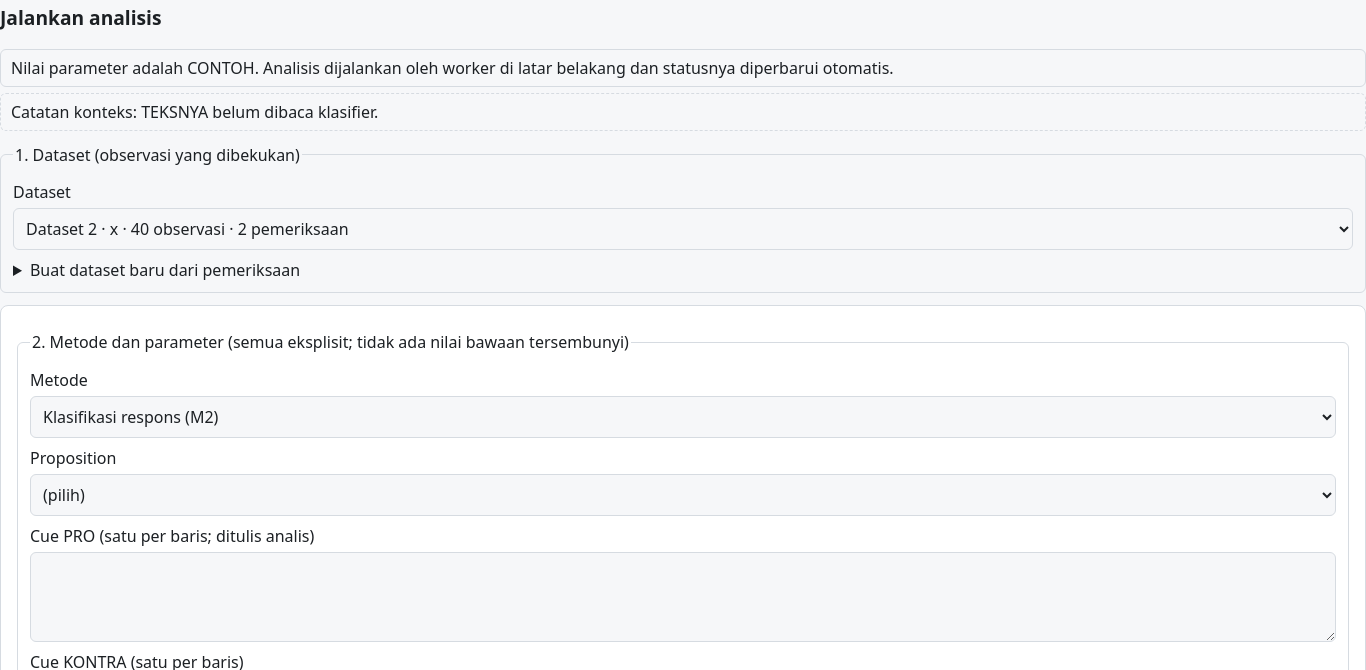
RunAnalysisPanel › M4: contoh mengisi relasi dan angka; stance view membutuhkan proposition dan run M2
Select "Jaringan interaksi (M4)" in the dropdown labelled "Metode" at (683, 417), box [30, 396, 1336, 438]
(page scrolled)
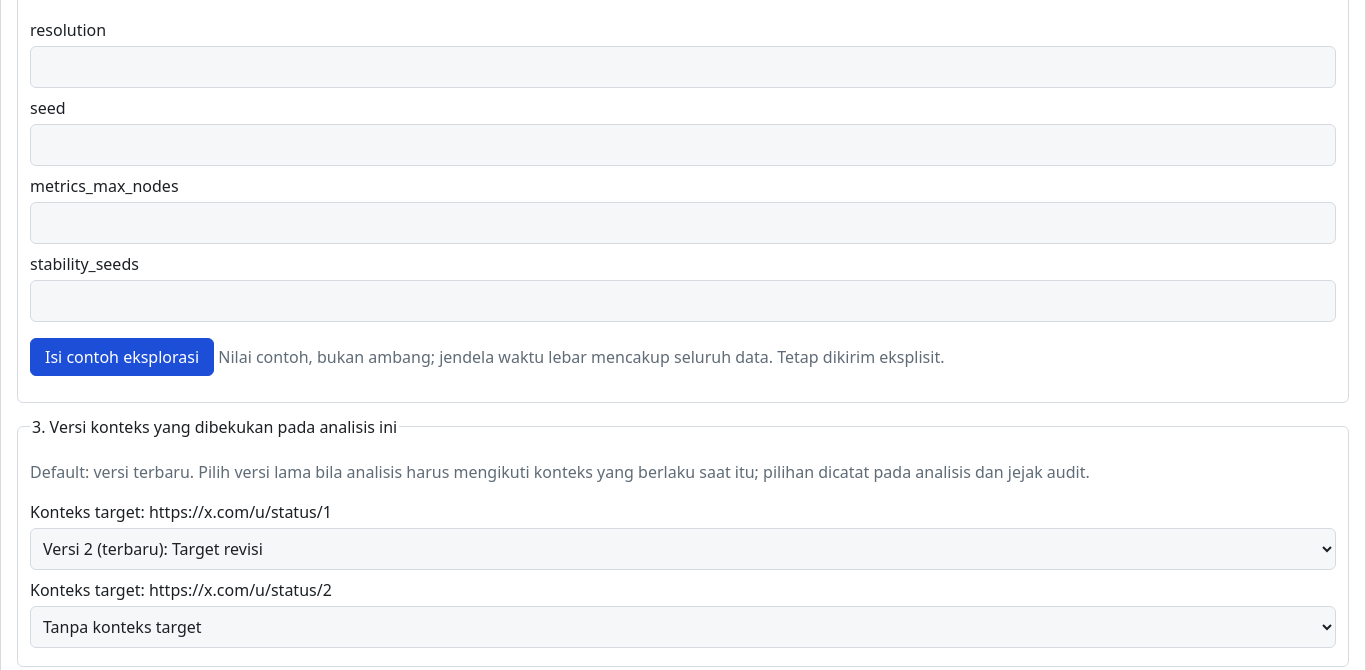
Click the button "Isi contoh eksplorasi" at (122, 356), box [30, 338, 214, 376]
(page scrolled)
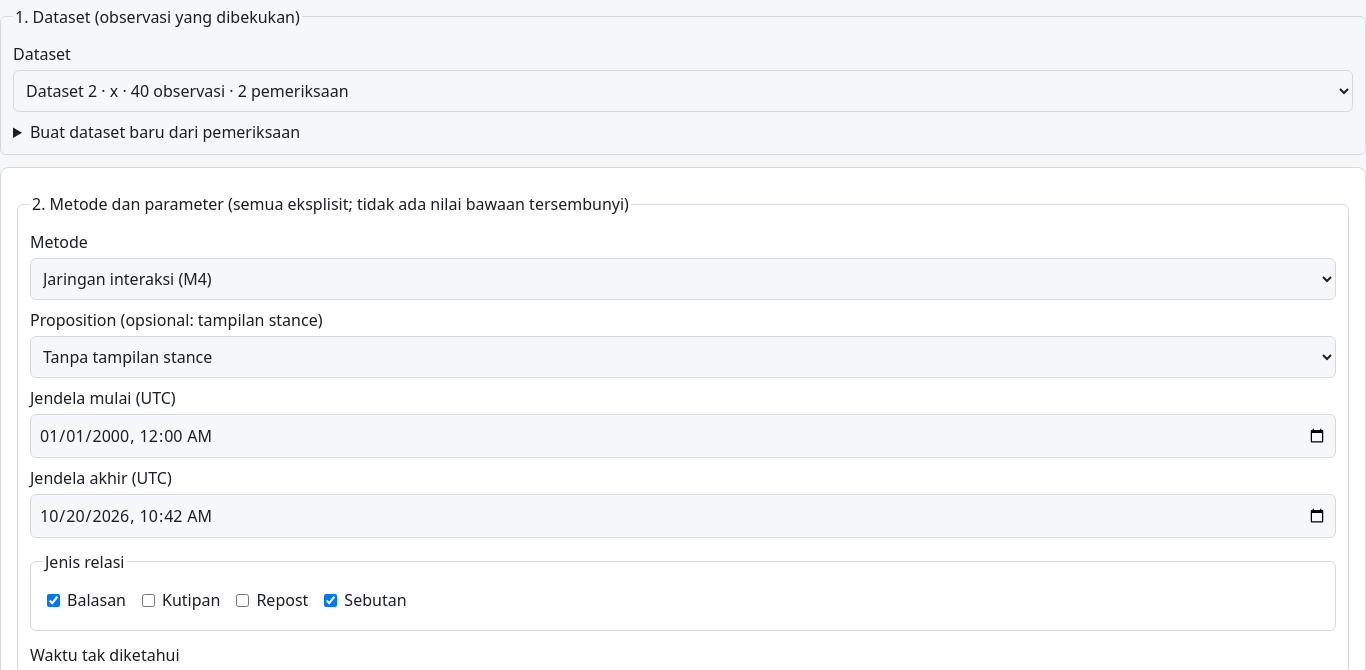
Result: the checkbox labelled "Kutipan" is not checked at [142, 592, 155, 608]
Result: the checkbox labelled "Balasan" is checked at [47, 592, 60, 608]
Select "P1: Perlu diaudit." in the dropdown labelled "Proposition (opsional: tampilan stance)" at (683, 357), box [30, 336, 1336, 378]
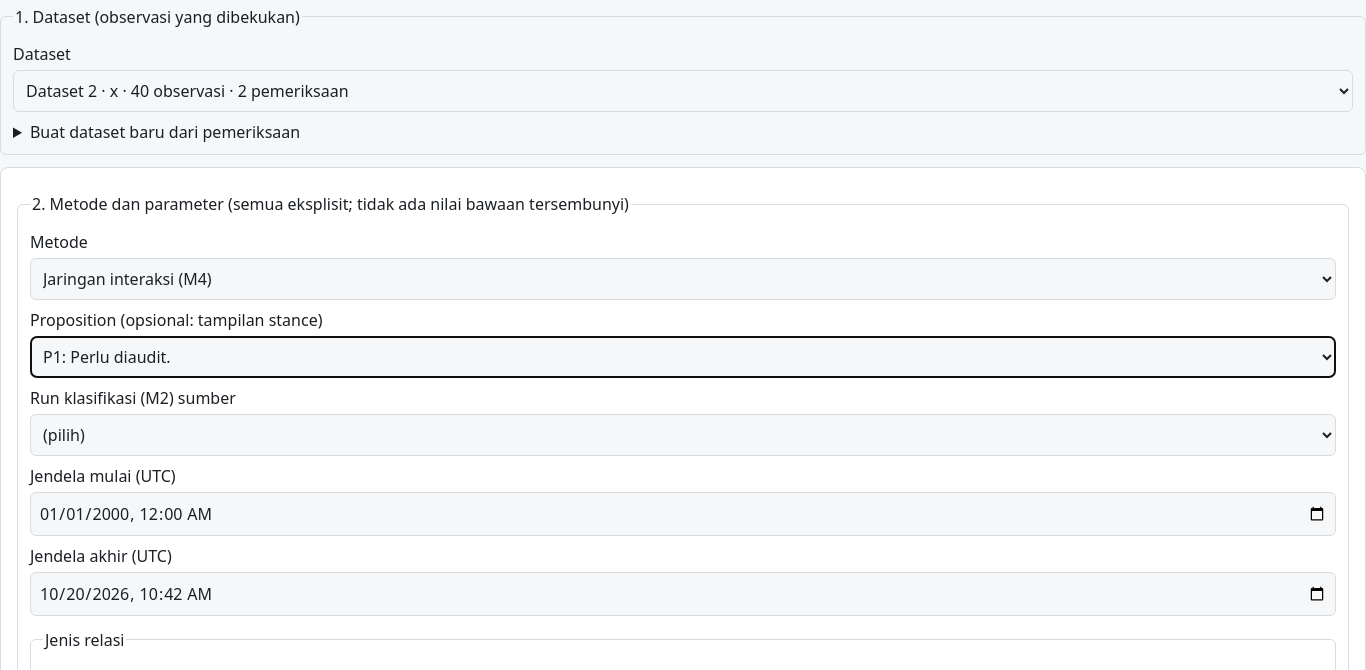
Result: the dropdown named "Run M2 sumber" is shown at [30, 414, 1336, 456]
